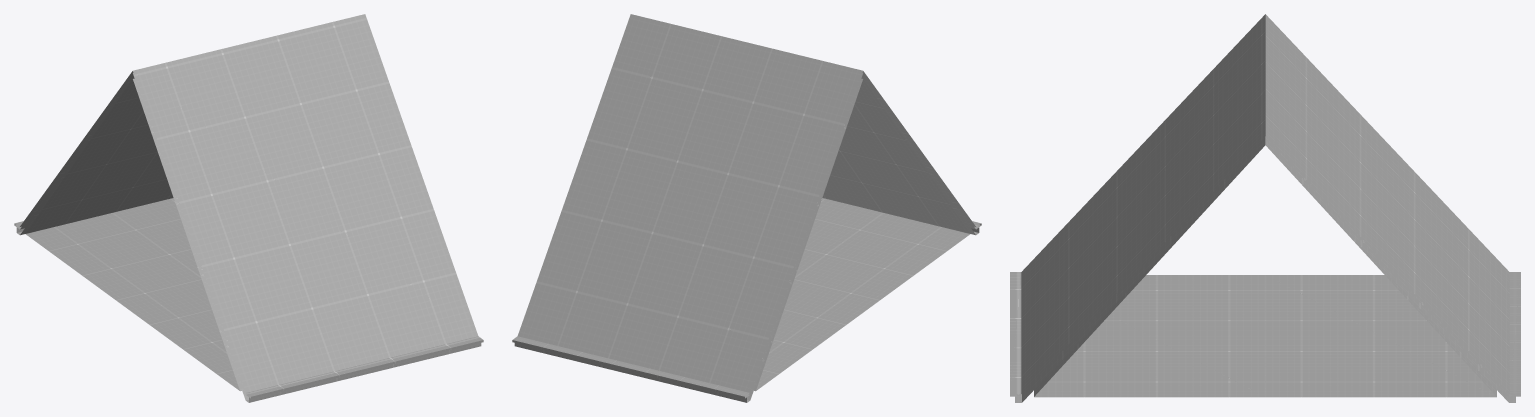
The model's file is HighRoof.007.fbx.
The picture shows the model from 3 angles, left to right: view 1: azimuth 30°, elevation 25°; view 2: azimuth 150°, elevation 25°; view 3: azimuth 270°, elevation 25°; orthographic projection. The views are drawn at different scales.
Parts seen in each view (by area): view 1: HighRoof.007; view 2: HighRoof.007; view 3: HighRoof.007.
Part boxes in pixels (<box>): HighRoof.007: <box>14,14,483,402</box>; HighRoof.007: <box>512,14,981,402</box>; HighRoof.007: <box>1010,14,1520,402</box>.
Size of the model in its own units: 400 by 406 by 706.
